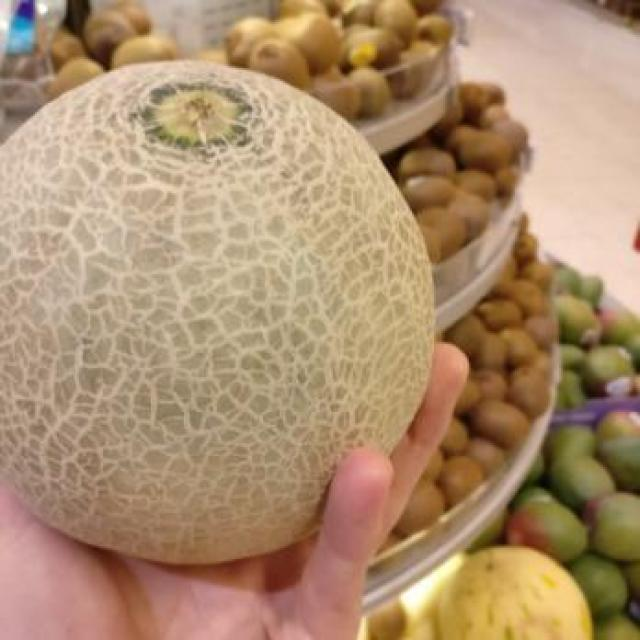Cantaloupe: (0, 59, 438, 567)
